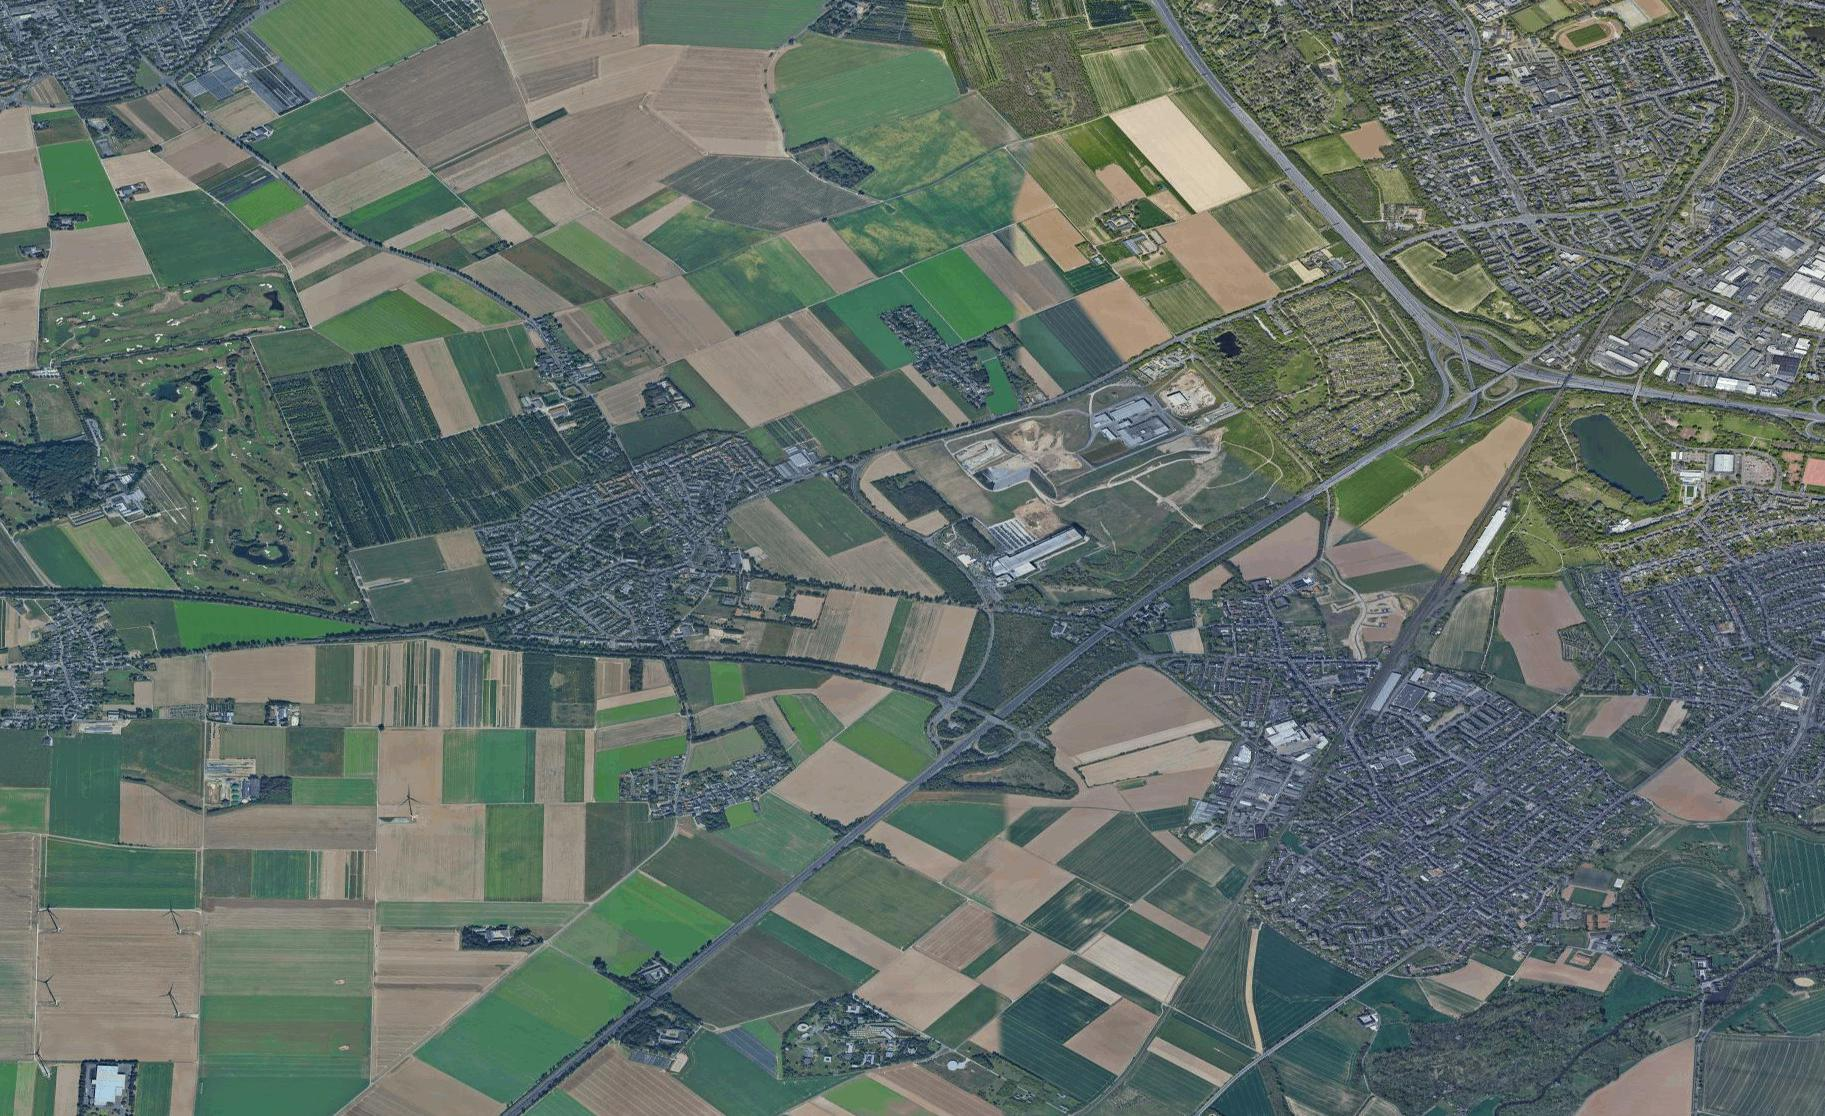industrial: (1666, 229, 1825, 374), (975, 503, 1088, 595), (1074, 373, 1188, 464)
motorway: (974, 624, 1104, 737), (846, 733, 976, 845), (712, 842, 842, 954), (577, 948, 707, 1060), (1330, 211, 1439, 326), (1104, 538, 1231, 627), (1231, 462, 1350, 549), (1151, 1, 1241, 113), (1241, 112, 1337, 215), (1350, 386, 1460, 475), (1433, 325, 1546, 382), (1541, 369, 1692, 405), (1689, 385, 1824, 422), (490, 1060, 575, 1116)
